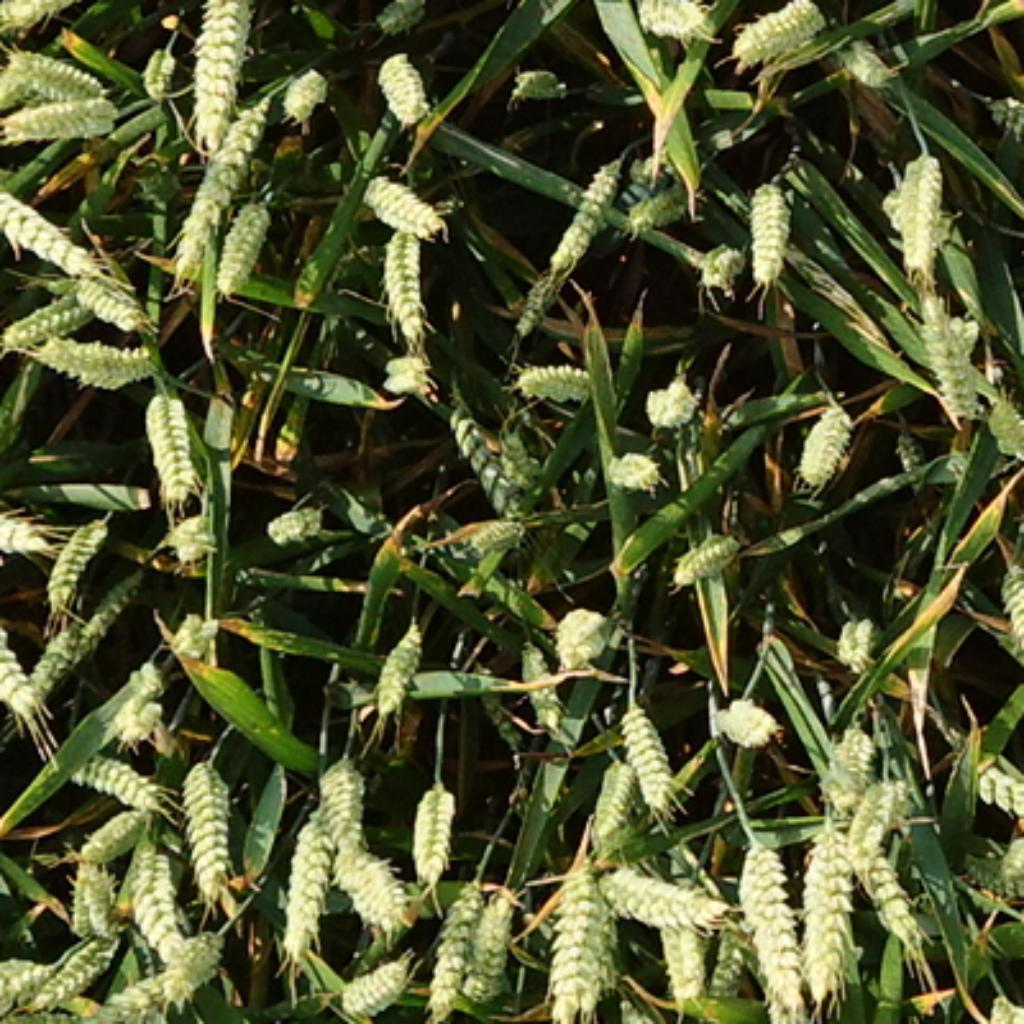0-0: (167, 94, 281, 291), (440, 386, 550, 512), (738, 840, 809, 1024), (538, 868, 618, 1024), (799, 821, 865, 1009), (58, 563, 161, 663), (903, 289, 990, 407), (547, 145, 632, 263), (371, 222, 445, 350), (2, 171, 97, 268), (422, 872, 488, 1011), (463, 880, 527, 1021), (184, 0, 256, 125), (176, 747, 238, 890), (852, 811, 919, 942), (593, 855, 716, 926), (276, 801, 335, 949), (330, 826, 412, 931), (609, 693, 680, 814), (135, 378, 202, 496), (23, 931, 120, 1011), (25, 325, 163, 381), (125, 837, 189, 954), (481, 394, 555, 494), (896, 140, 947, 284), (153, 924, 240, 1008), (5, 40, 115, 104), (872, 176, 962, 253), (5, 279, 122, 337), (15, 622, 87, 716), (304, 752, 371, 852), (732, 0, 834, 64), (355, 158, 445, 230), (99, 650, 171, 739), (69, 801, 158, 872), (89, 972, 209, 1024), (2, 81, 117, 135), (212, 189, 276, 286), (739, 171, 798, 276), (839, 768, 916, 847), (56, 261, 148, 325), (64, 744, 163, 803), (43, 509, 110, 596), (791, 391, 855, 481), (473, 660, 529, 762), (337, 947, 417, 1018), (814, 716, 883, 798), (366, 616, 424, 711), (407, 773, 458, 878), (547, 593, 622, 663), (368, 43, 432, 120), (962, 737, 1024, 815), (2, 640, 53, 734), (622, 161, 693, 227), (522, 634, 568, 734), (64, 852, 120, 934), (670, 519, 744, 581), (652, 913, 709, 993), (706, 680, 778, 742), (512, 348, 599, 396), (512, 258, 570, 330), (837, 33, 903, 94), (709, 921, 752, 1011), (637, 368, 701, 427), (992, 556, 1024, 674), (163, 499, 225, 558), (826, 604, 883, 668), (258, 491, 327, 542), (977, 84, 1024, 158), (130, 148, 194, 202), (0, 944, 61, 1000), (0, 503, 59, 560), (453, 506, 529, 550), (593, 437, 660, 486), (893, 424, 934, 501), (166, 604, 225, 657), (691, 232, 747, 286), (279, 58, 330, 115), (627, 0, 709, 35), (980, 386, 1024, 450), (381, 345, 435, 396), (506, 56, 570, 97), (988, 834, 1024, 903), (936, 438, 976, 494), (137, 45, 175, 99), (371, 0, 430, 28), (1021, 174, 1024, 238)
